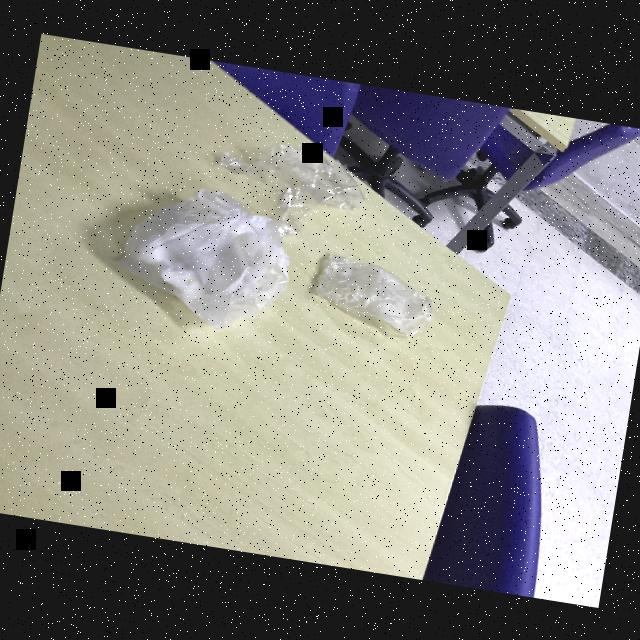plastic_bag: (108, 175, 305, 340), (204, 128, 383, 238), (302, 250, 446, 350)
